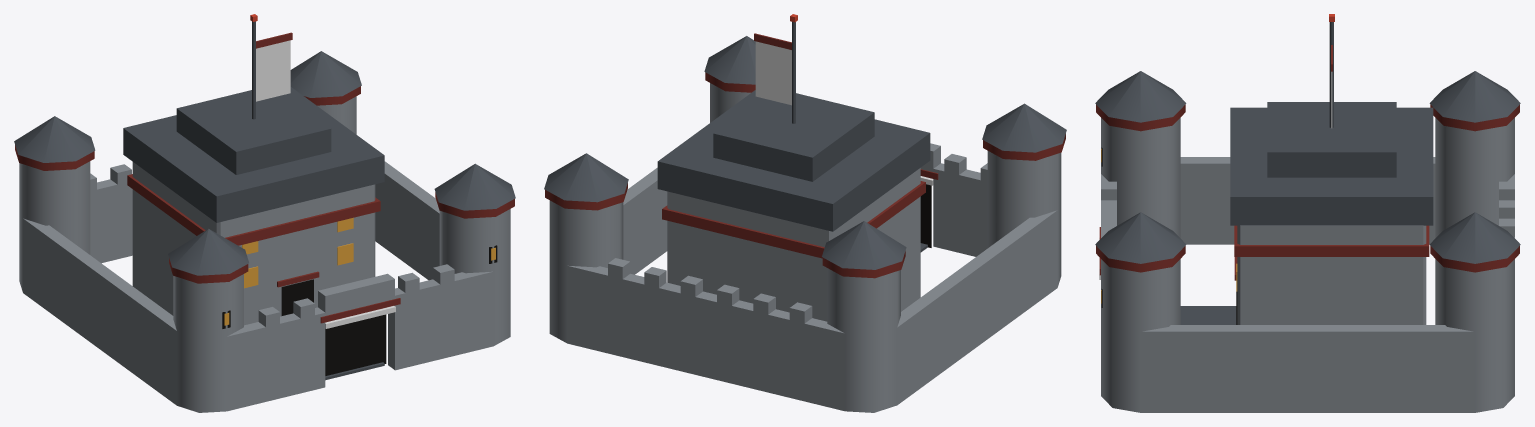
The picture shows the model from 3 angles, left to right: view 1: azimuth 30°, elevation 25°; view 2: azimuth 150°, elevation 25°; view 3: azimuth 270°, elevation 25°; orthographic projection. The views are drawn at different scales.
Parts seen in each view (by area): view 1: garde_building_bastion; view 2: garde_building_bastion; view 3: garde_building_bastion.
Part boxes in pixels (x1=…): garde_building_bastion: x1=14, y1=14, x2=515, y2=412; garde_building_bastion: x1=544, y1=14, x2=1066, y2=412; garde_building_bastion: x1=1095, y1=14, x2=1520, y2=412.
Bounding box in the file's own units: 21.4 × 17.2 × 21.4.
